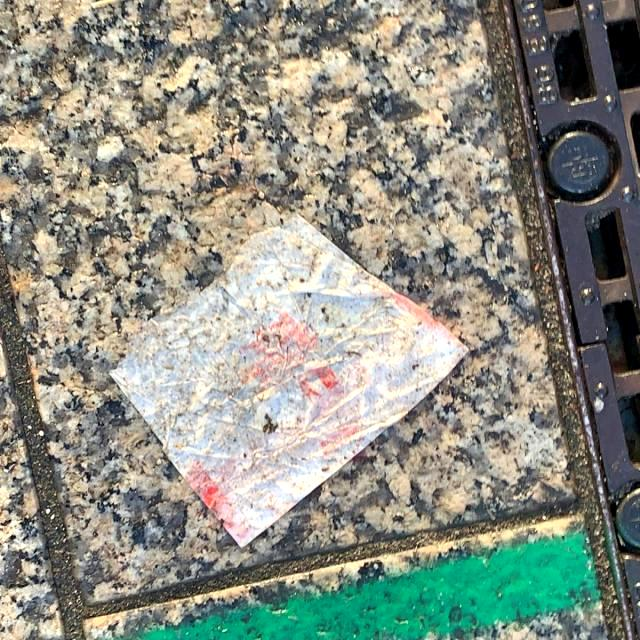Paper: (106, 206, 470, 550)
